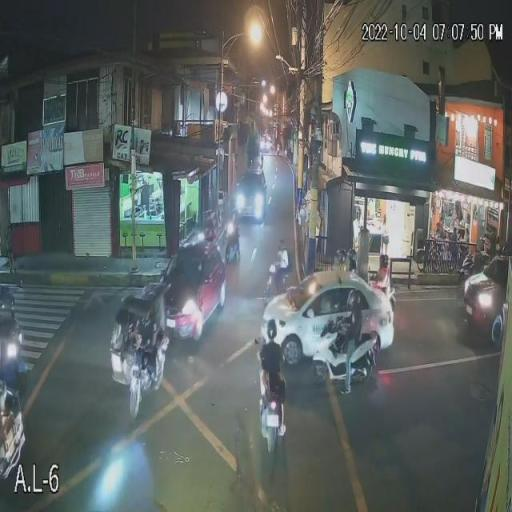helmet: (343, 289, 363, 309), (265, 316, 279, 342), (336, 248, 347, 264), (379, 254, 391, 268), (347, 248, 357, 261)
motorcycle: (310, 328, 382, 392), (255, 382, 290, 458), (386, 286, 398, 310)
rider: (340, 311, 361, 397), (258, 342, 286, 382), (376, 269, 390, 290), (348, 259, 359, 271), (333, 263, 346, 270)
